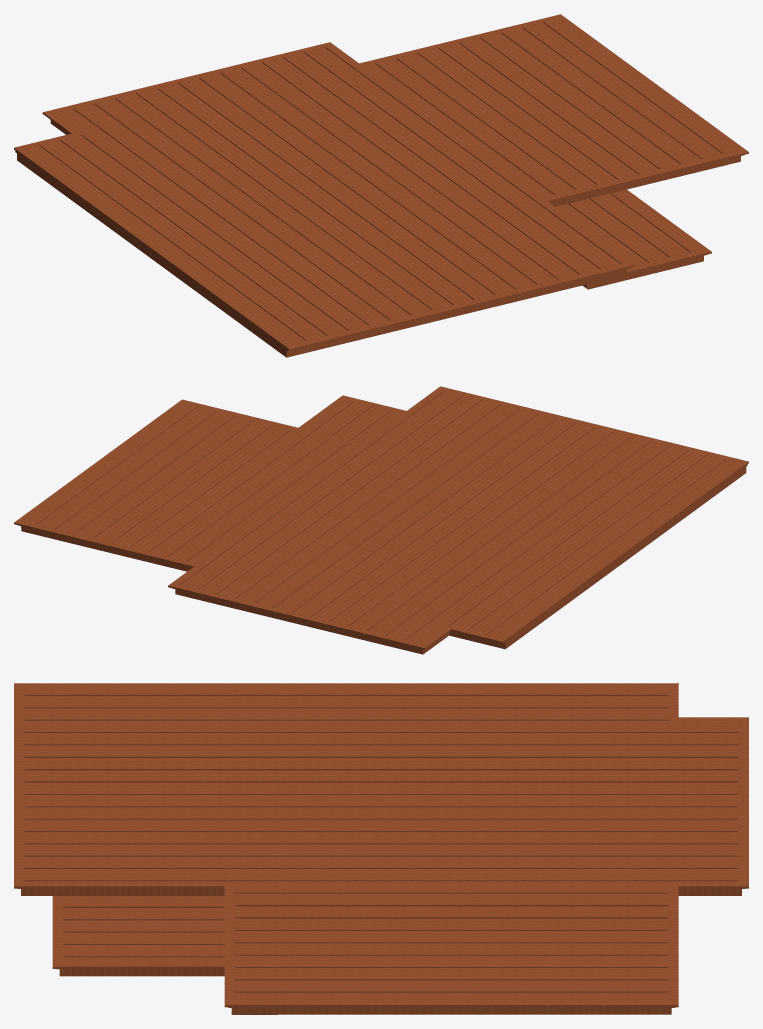
File: roof.obj
3 views of the same model, one above another, from view 1: azimuth 30°, elevation 25°; view 2: azimuth 150°, elevation 25°; view 3: azimuth 270°, elevation 25° (orthographic). The views are drawn at different scales.
Parts seen in each view (by area): view 1: roof_MH1_OBJ_05; view 2: roof_MH1_OBJ_05; view 3: roof_MH1_OBJ_05.
Part boxes in pixels (x1,y1,x2,y2): roof_MH1_OBJ_05: (14,14,748,357); roof_MH1_OBJ_05: (14,386,748,654); roof_MH1_OBJ_05: (14,683,748,1014).
Size of the model in its own units: 651 by 37 by 628.
Materials: 1 (1 with a texture image).
